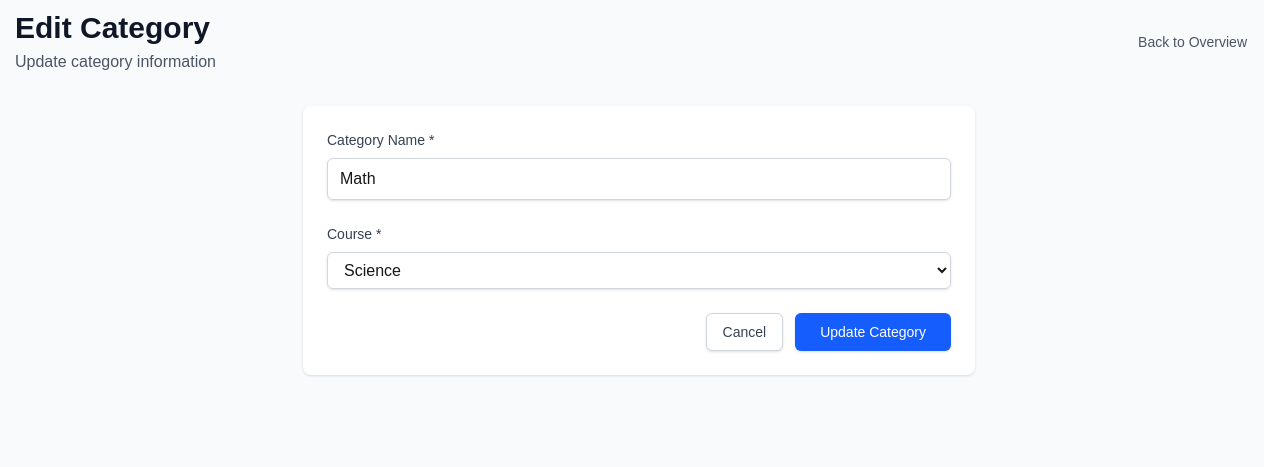
Test case: EditCategoryPage › shows error message if update fails
Click the button "Update Category".
click(873, 332)  # box [795, 313, 951, 351]
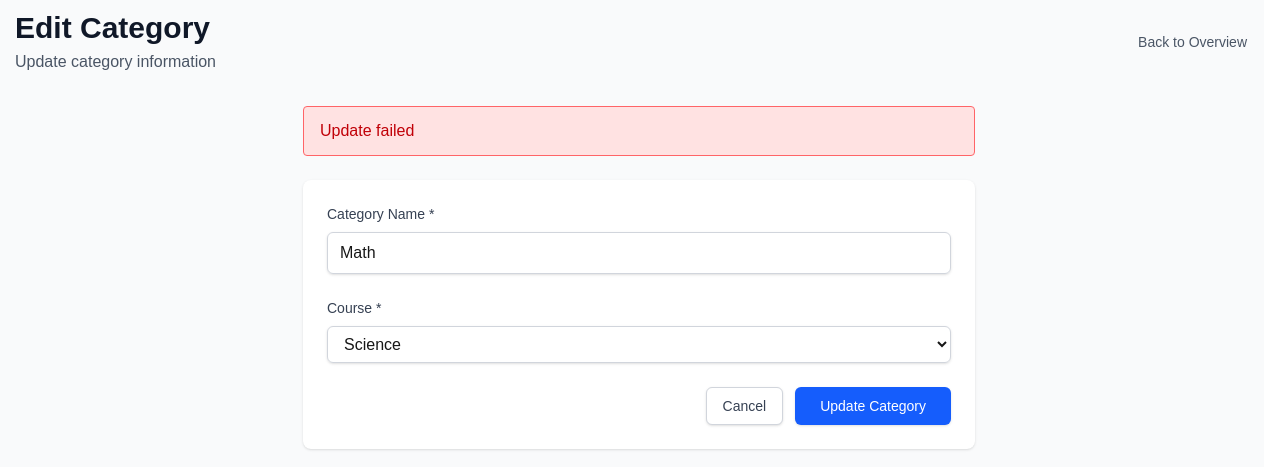
Now the text "Update failed" is shown, box [303, 106, 975, 156]
